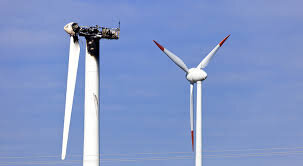faulty: (62, 18, 124, 113)
